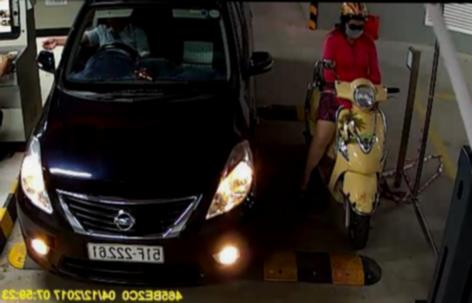License_Plate: (86, 240, 164, 265)
